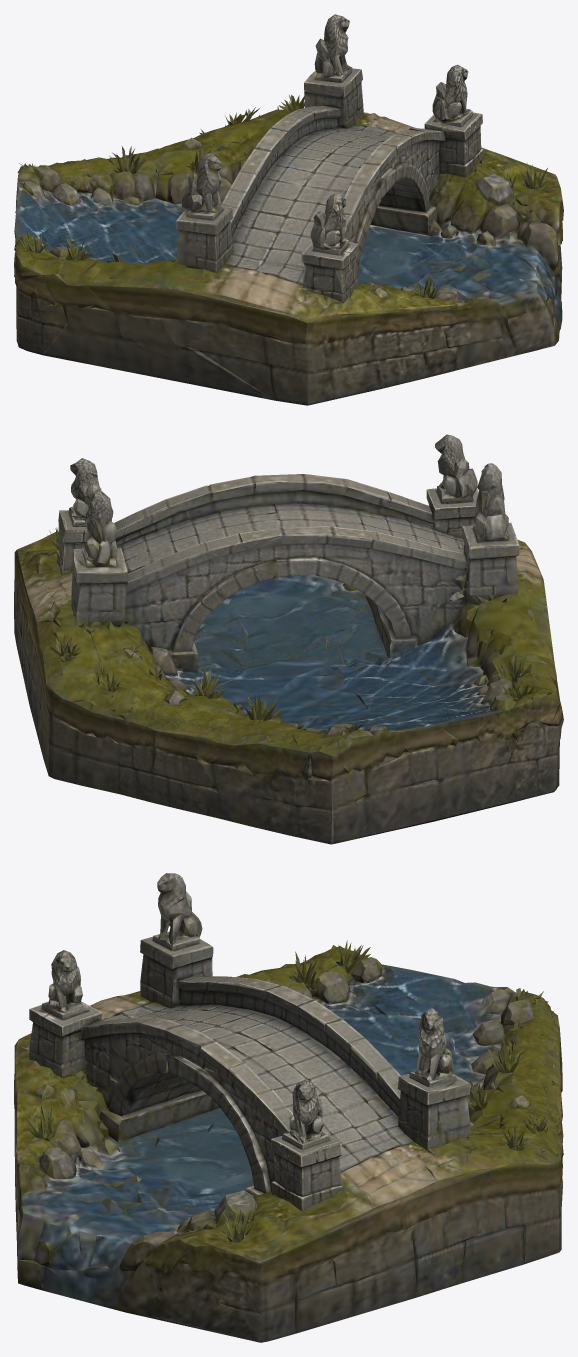
File: bridge.glb
3 views of the same model, one above another, from view 1: azimuth 30°, elevation 25°; view 2: azimuth 150°, elevation 25°; view 3: azimuth 270°, elevation 25° (orthographic). The views are drawn at different scales.
Bounding box in the file's own units: 2.25 × 0.8953 × 1.78.
1 material, 1 textured.
